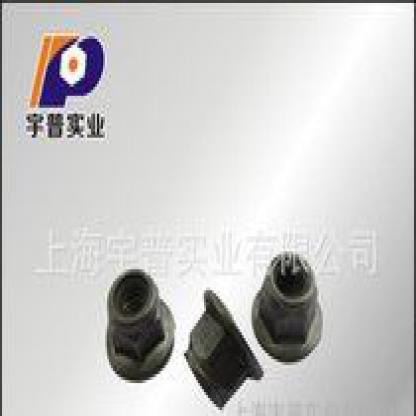FOD: (181, 287, 264, 410), (249, 249, 325, 368), (103, 265, 178, 384)
